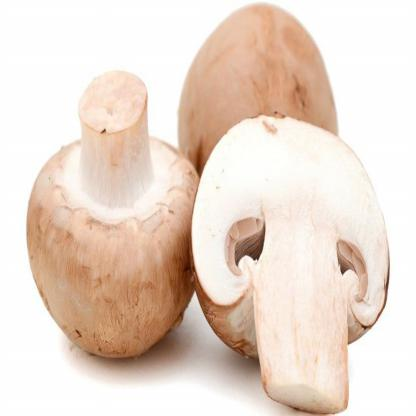mushroom: (189, 118, 390, 413), (27, 69, 202, 361)
